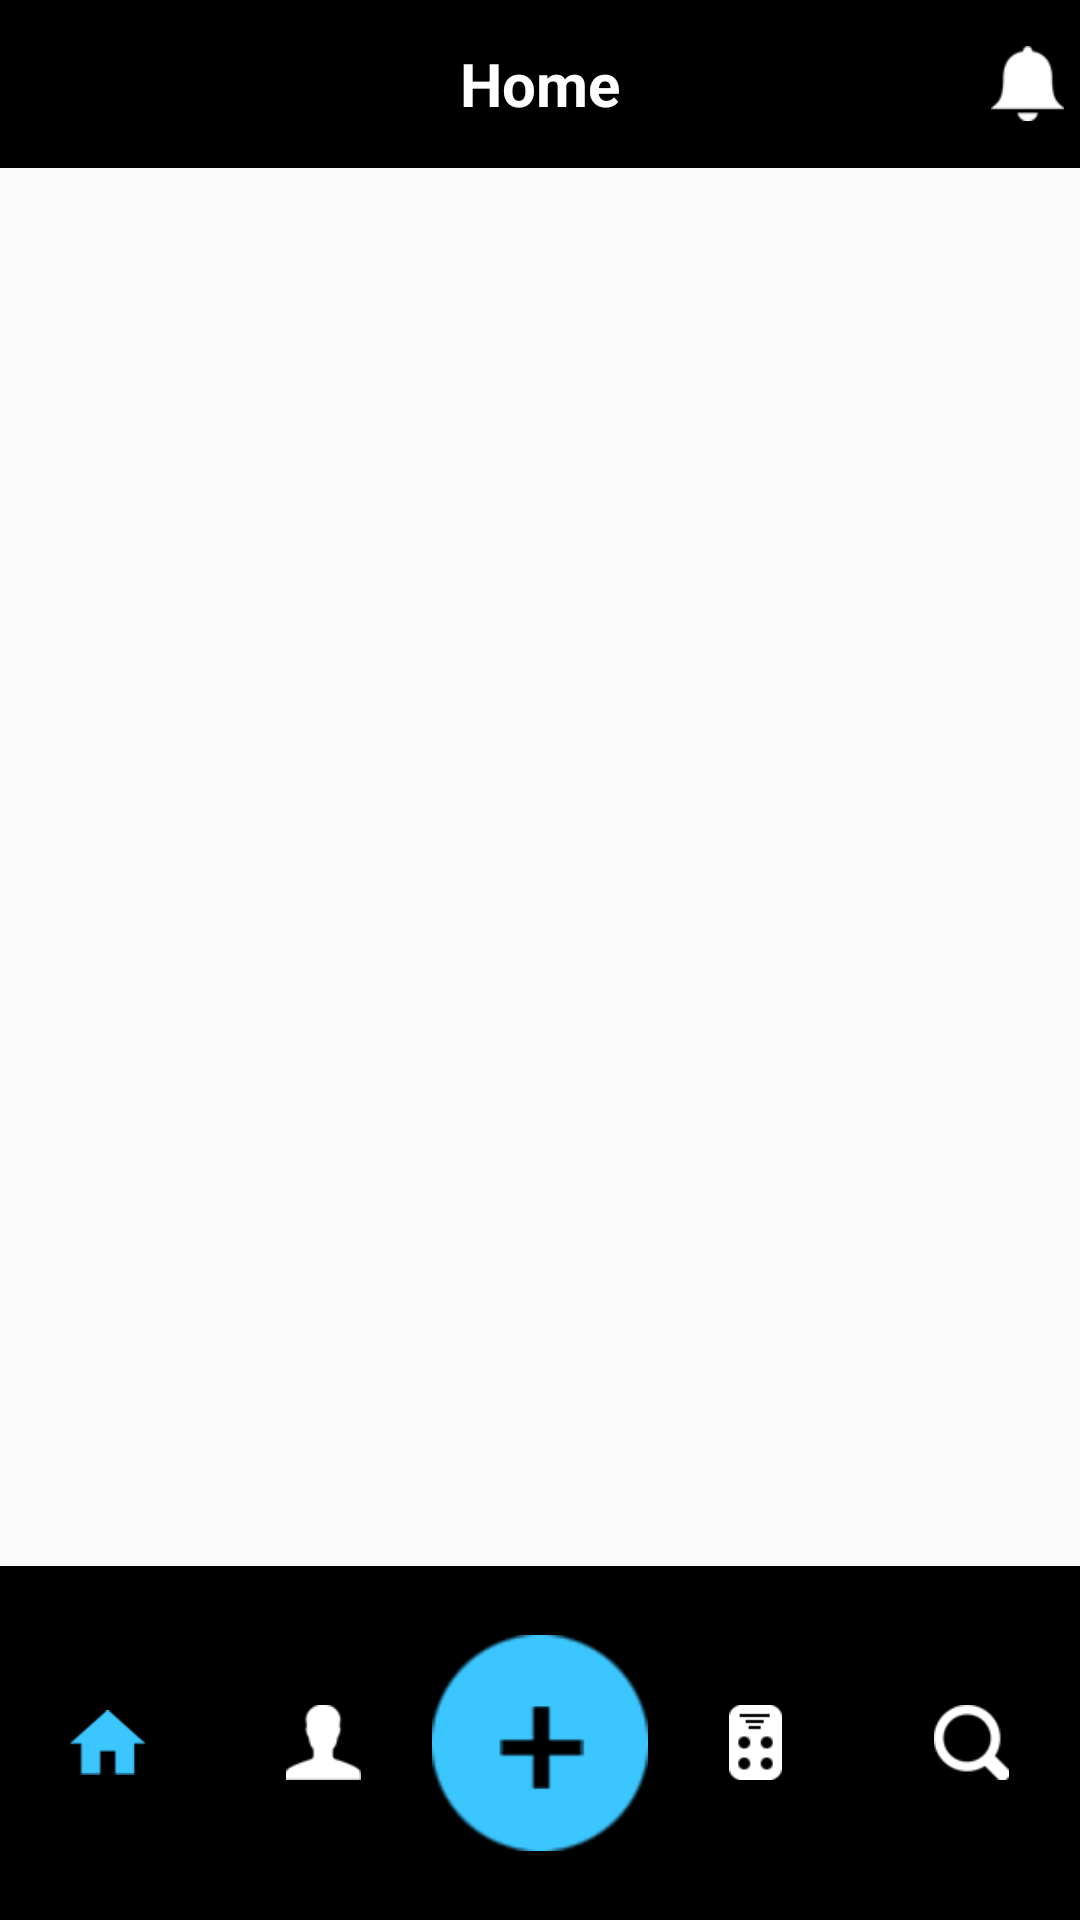

Icon click points for this 1080px x 1920px phone screenshot, format (x=x, y=y):
addcontent: (x=540, y=1743)
alerts: (x=1027, y=83)
channels: (x=755, y=1742)
homeb: (x=107, y=1742)
profile: (x=323, y=1742)
search: (x=971, y=1742)
